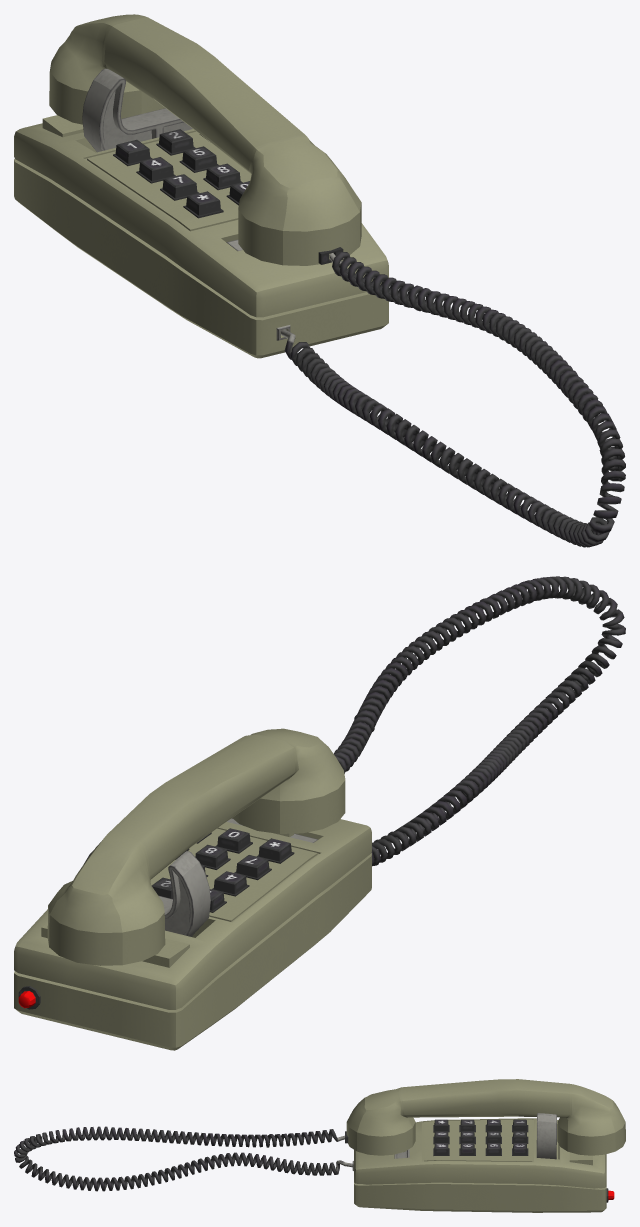
The model's file is phone.glb.
3 renders of one model, top to bottom at view 1: azimuth 30°, elevation 25°; view 2: azimuth 150°, elevation 25°; view 3: azimuth 270°, elevation 25°, orthographic. The views are drawn at different scales.
Visible parts, largest first — view 1: base_low, handle_low, cable_low, buttons_low, fixator_low; view 2: base_low, handle_low, cable_low, buttons_low, fixator_low; view 3: base_low, handle_low, cable_low, buttons_low, fixator_low.
Boxes of the visible parts, bbox=[...] form: base_low: bbox=[14, 115, 388, 358]; handle_low: bbox=[49, 14, 361, 265]; cable_low: bbox=[281, 251, 625, 547]; buttons_low: bbox=[113, 129, 249, 218]; fixator_low: bbox=[82, 68, 192, 152]; base_low: bbox=[14, 818, 371, 1050]; handle_low: bbox=[47, 728, 345, 965]; cable_low: bbox=[334, 576, 625, 866]; buttons_low: bbox=[151, 828, 294, 912]; fixator_low: bbox=[84, 850, 210, 936]; base_low: bbox=[352, 1118, 606, 1212]; handle_low: bbox=[346, 1079, 625, 1155]; cable_low: bbox=[14, 1126, 352, 1191]; buttons_low: bbox=[433, 1119, 528, 1155]; fixator_low: bbox=[536, 1113, 556, 1159].
Bounding box in the file's own units: 2.13 × 2.27 × 11.39.
Materials: 1 (1 with a texture image).
